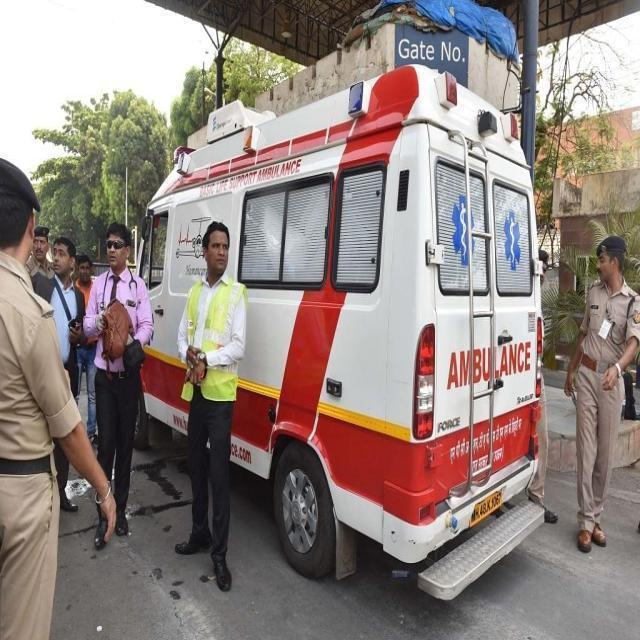Ambulance: (130, 62, 555, 602), (1, 363, 639, 638), (171, 220, 251, 593), (561, 233, 639, 555)
